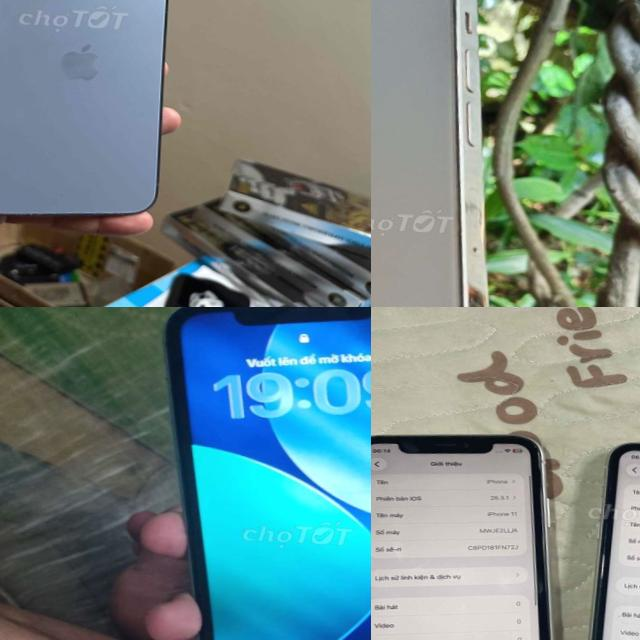gen_11: (141, 307, 371, 640)
gen_12_13: (371, 0, 533, 307), (0, 0, 182, 226)
